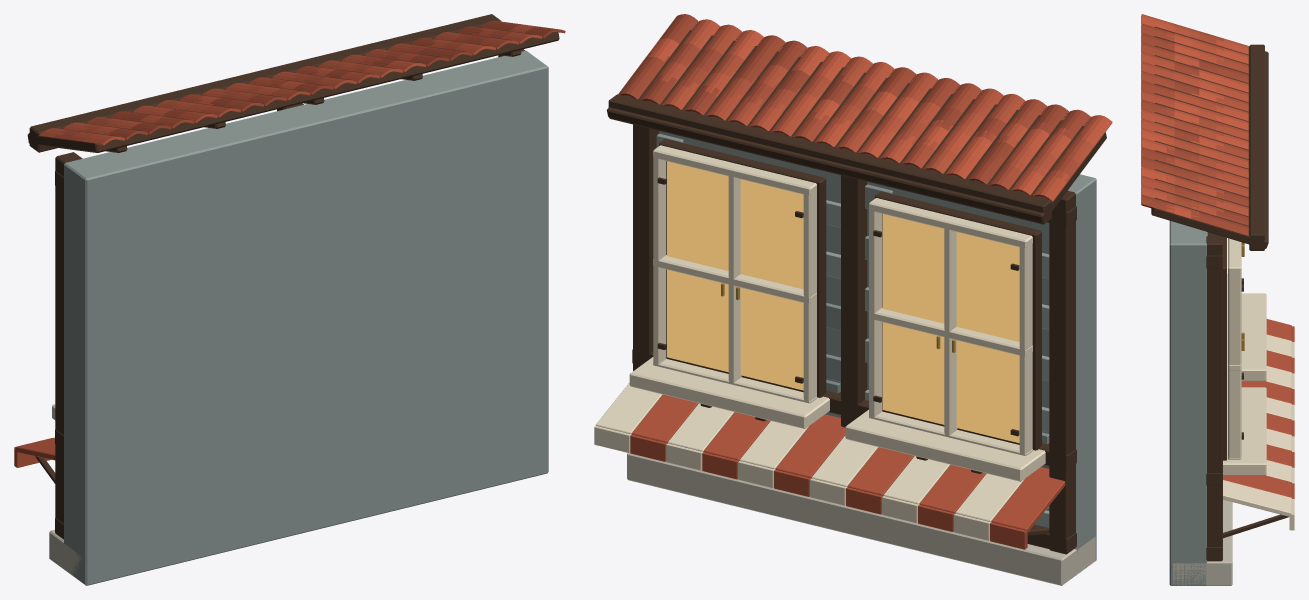
Rendered from SM_Wall_Window_Roof_L0.glb.
3 renders of one model, left to right at view 1: azimuth 30°, elevation 25°; view 2: azimuth 150°, elevation 25°; view 3: azimuth 270°, elevation 25°, orthographic. The views are drawn at different scales.
Parts seen in each view (by area): view 1: SM_Wall_Window_Roof; view 2: SM_Wall_Window_Roof; view 3: SM_Wall_Window_Roof.
Boxes of the visible parts, x1,y1,x2,y2 form: SM_Wall_Window_Roof: [14, 14, 565, 585]; SM_Wall_Window_Roof: [594, 14, 1112, 585]; SM_Wall_Window_Roof: [1141, 14, 1294, 585].
Bounding box in the file's own units: 4 × 3.78 × 1.36.
